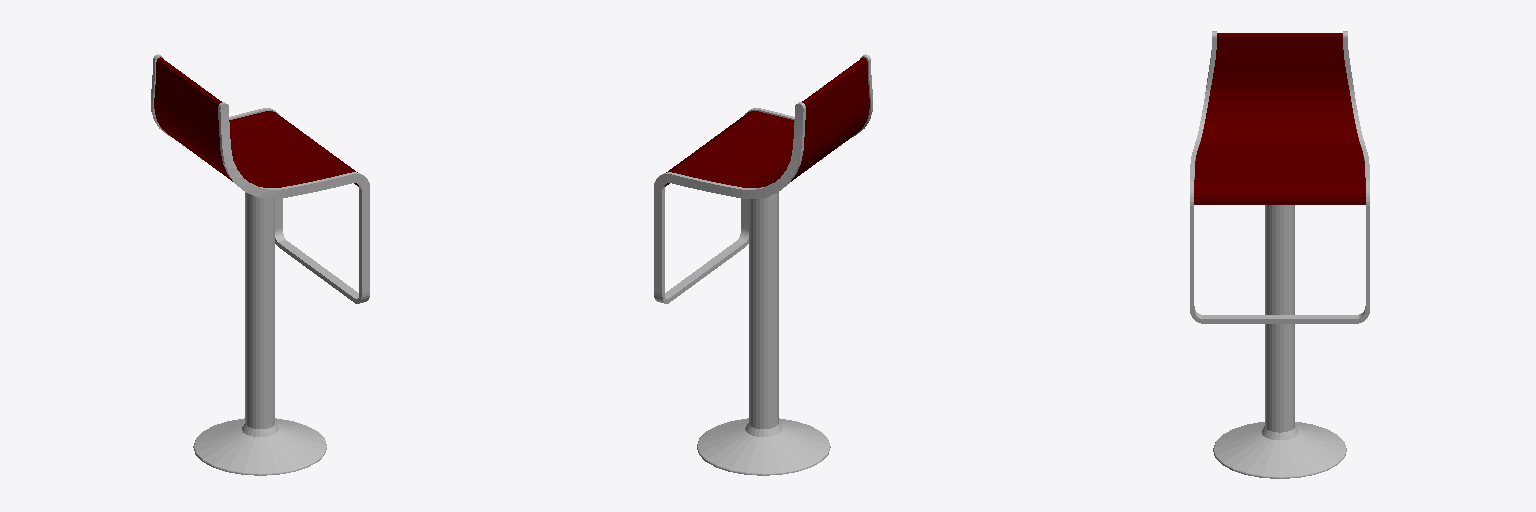
File: sgabello.obj
3 renders of one model, left to right at view 1: azimuth 30°, elevation 25°; view 2: azimuth 150°, elevation 25°; view 3: azimuth 270°, elevation 25°, orthographic.
Visible parts, largest first — view 1: Line59_1, Line60_4, Line58_5, Line13_2, Line61_3; view 2: Line59_1, Line60_4, Line61_3, Line13_2, Line58_5; view 3: Line60_4, Line59_1, Line13_2, Line61_3, Line58_5.
Boxes of the visible parts, x1,y1,x2,y2 form: Line59_1: [193, 192, 326, 475]; Line60_4: [154, 57, 358, 187]; Line58_5: [218, 102, 369, 284]; Line13_2: [275, 219, 369, 303]; Line61_3: [151, 54, 282, 220]; Line59_1: [697, 192, 830, 475]; Line60_4: [665, 57, 869, 187]; Line61_3: [654, 102, 805, 284]; Line13_2: [654, 219, 748, 303]; Line58_5: [741, 54, 872, 220]; Line60_4: [1194, 33, 1365, 204]; Line59_1: [1213, 205, 1346, 478]; Line13_2: [1190, 301, 1369, 323]; Line61_3: [1343, 31, 1369, 300]; Line58_5: [1190, 31, 1216, 300].
Bounding box in the file's own units: 32 × 85 × 36.